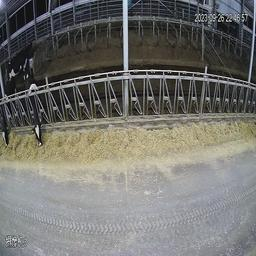cow: (23, 71, 44, 149), (3, 38, 34, 80), (1, 77, 19, 148)
